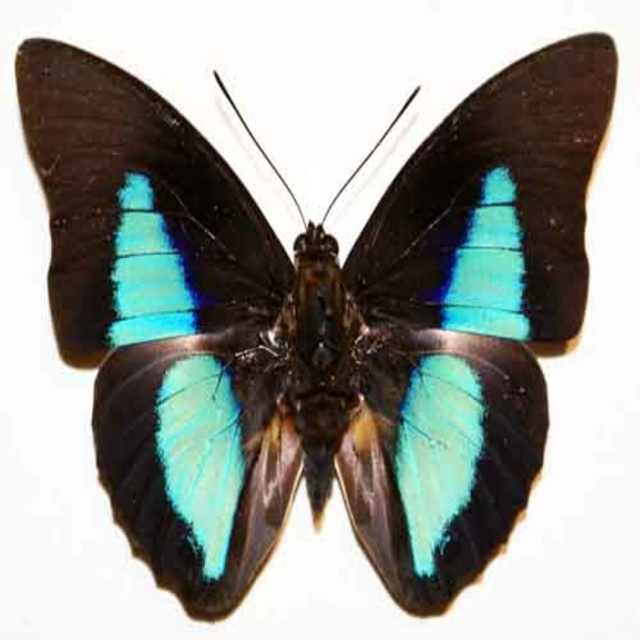Butterfly: (72, 18, 567, 640)
